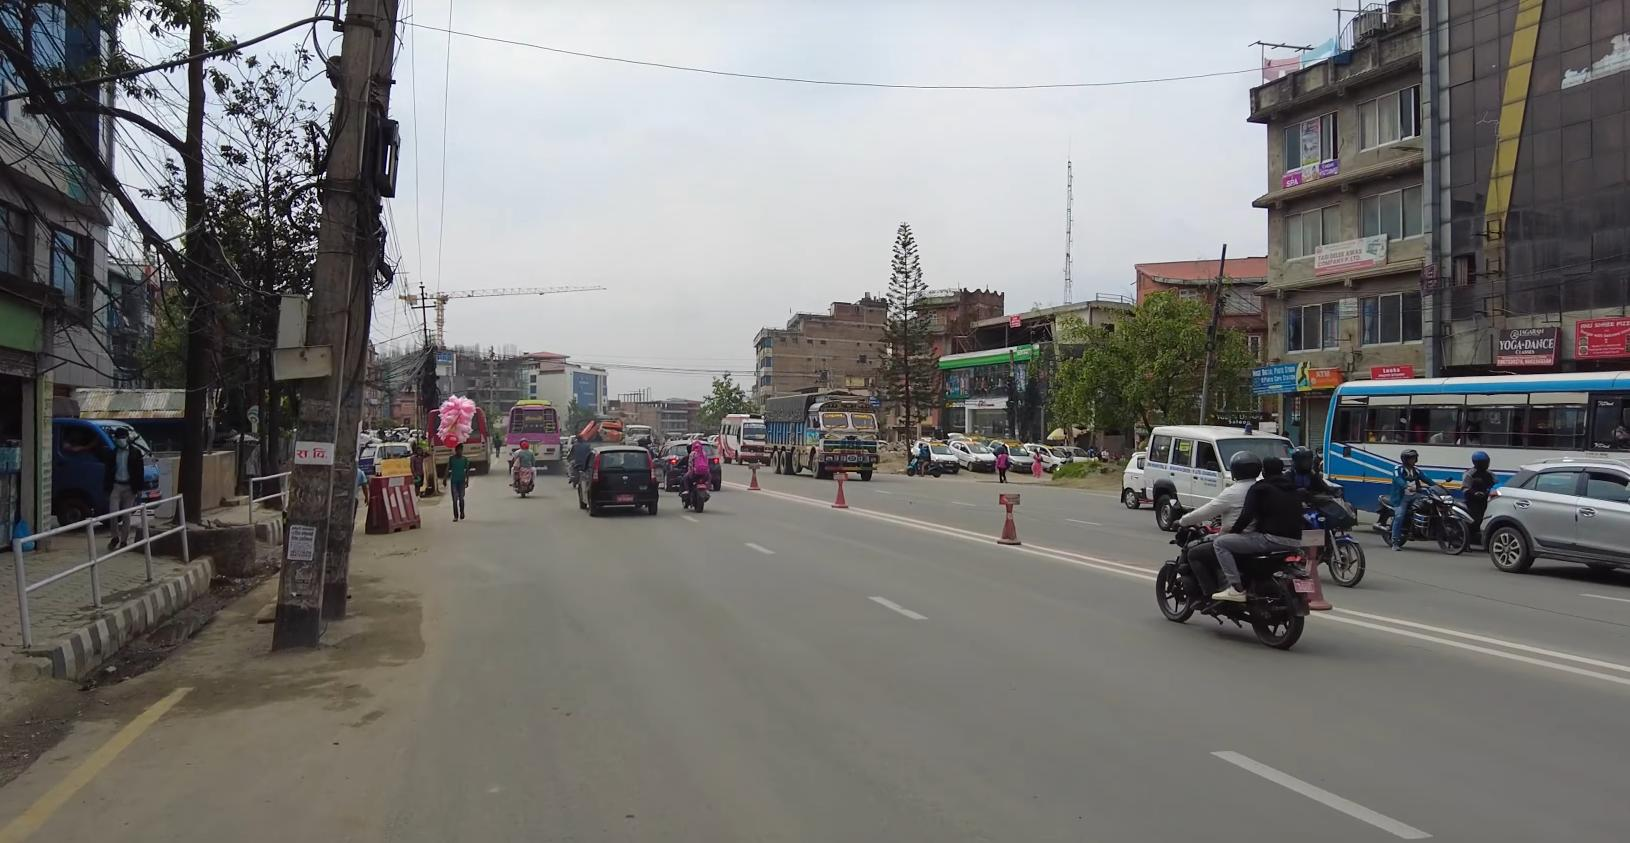ambulance: (1146, 415, 1328, 531)
bike: (1152, 513, 1326, 653)
bus: (1322, 374, 1630, 519), (1483, 448, 1630, 582), (716, 409, 773, 466)
car: (576, 440, 666, 524)
taxi: (907, 434, 959, 474), (946, 435, 995, 470)
truck: (760, 385, 886, 485)
